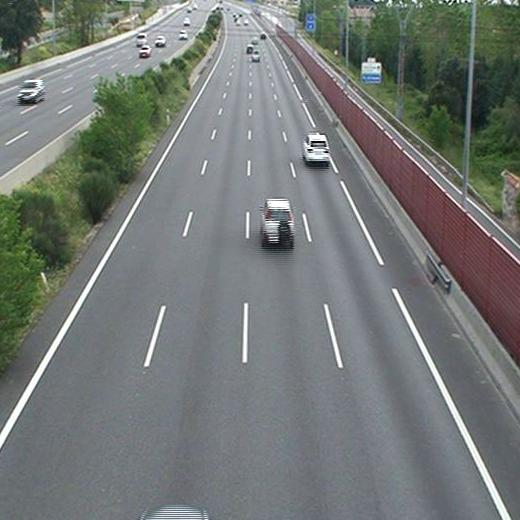car: (261, 200, 294, 242), (303, 135, 329, 162)
van: (251, 49, 260, 61)
